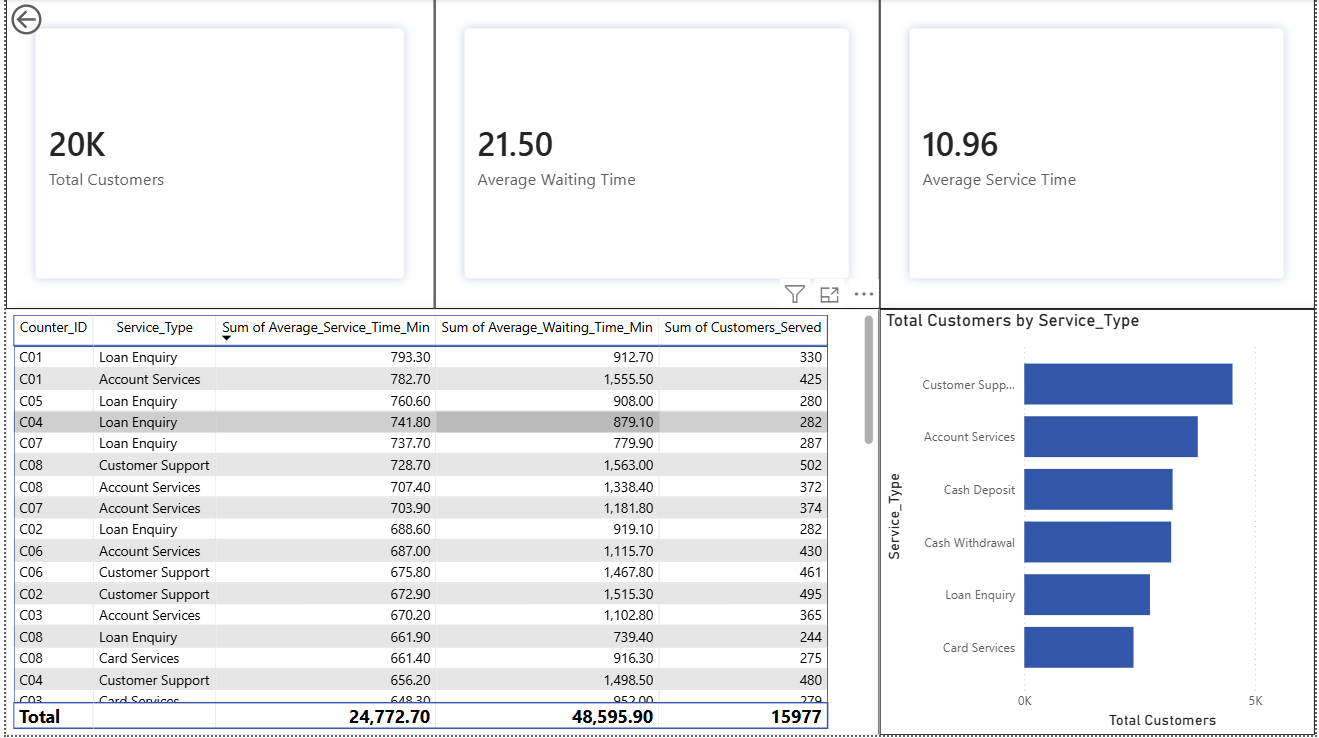

The dashboard page shown, as its layout file describes it:
{"tool":"powerbi","page":{"name":"Branch details","canvas":[1280,720],"ordinal":1},"visuals":[{"type":"actionButton","box":[0,0,100,40],"z":0},{"type":"cardVisual","fields":{"Data":["Allmeasures.Average Service Time"]},"box":[854.5,0,425.5,303.3],"z":1000},{"type":"cardVisual","fields":{"Data":["Allmeasures.Total Customers"]},"box":[0,0,419.4,303.3],"z":2000},{"type":"cardVisual","fields":{"Data":["Allmeasures.Average Waiting Time"]},"box":[419.4,0,435.3,303.3],"z":3000},{"type":"tableEx","fields":{"Values":["Dim_Counter.Counter_ID","Dim_Service.Service_Type","Sum(Fact_Queue.Average_Service_Time_Min)","Sum(Fact_Queue.Average_Waiting_Time_Min)","Sum(Fact_Queue.Customers_Served)"]},"box":[0,303.3,854.8,417],"z":4000},{"type":"clusteredBarChart","fields":{"Category":["Dim_Service.Service_Type"],"Y":["Allmeasures.Total Customers"]},"box":[854.8,303.3,425.5,417],"z":5000},{"type":"actionButton","box":[0,0,100,40],"z":6000}]}

Visuals, with their boxes in screenshot pixels (x1, y1, x2, y2):
actionButton: Rect(10, 0, 111, 40)
cardVisual - Allmeasures.Average Service Time: Rect(875, 0, 1305, 307)
cardVisual - Allmeasures.Total Customers: Rect(10, 0, 435, 307)
cardVisual - Allmeasures.Average Waiting Time: Rect(435, 0, 875, 307)
tableEx - Dim_Counter.Counter_ID x Dim_Service.Service_Type: Rect(10, 307, 875, 729)
clusteredBarChart - Dim_Service.Service_Type x Allmeasures.Total Customers: Rect(875, 307, 1305, 729)
actionButton: Rect(10, 0, 111, 40)
